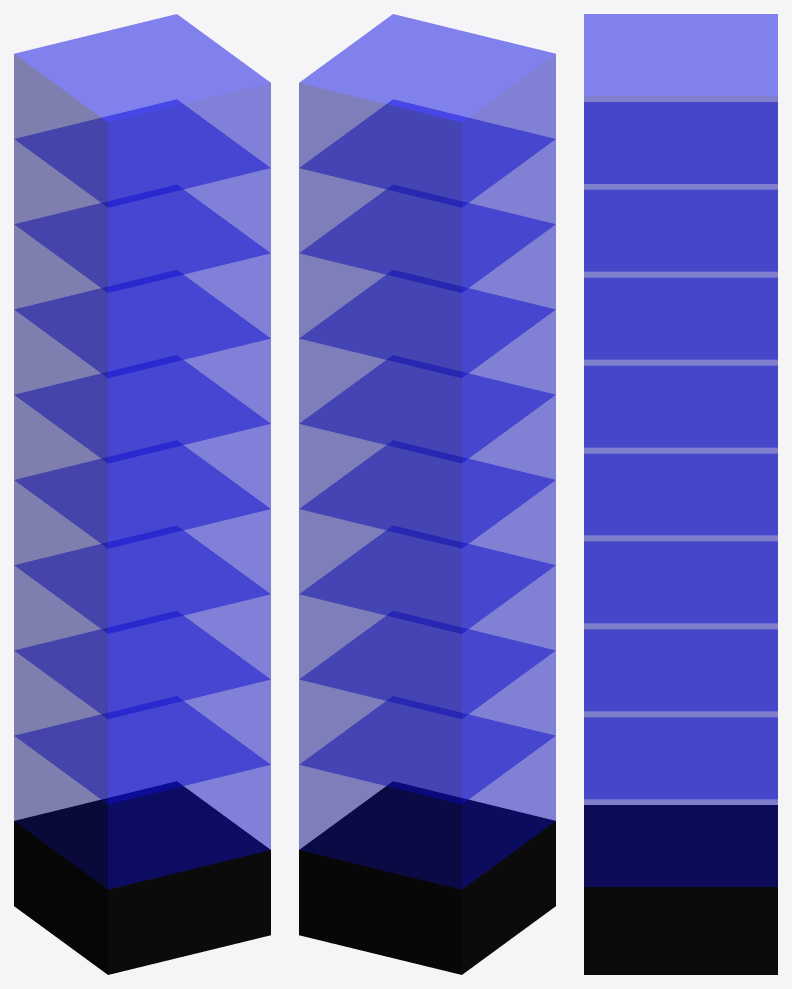
File: Elements_Spatial_CellComplex_TraverseCells.glb
The picture shows the model from 3 angles, left to right: view 1: azimuth 30°, elevation 25°; view 2: azimuth 150°, elevation 25°; view 3: azimuth 270°, elevation 25°; orthographic projection. The views are drawn at different scales.
Visible parts, largest first — view 1: b67d60e9-e09e-4923-a0f4-f72365dc1552_mesh, bc8b697d-8c0a-47db-a0ce-9b01d949c37b_mesh, e6ce35df-aee5-4938-82b2-ad88f5fe79bc_mesh, 4738ae23-38b1-47c1-b318-548763623b20_mesh, 4af2bf3d-1871-4e71-b617-1a072a71d563_mesh, 1293839e-dad5-4ac8-b9ae-1a486ff21528_mesh, 8fb3d295-b7f3-424b-909e-11fc838c3b7b_mesh, da85d28e-1a51-471e-bbd8-2bbe40ccbe36_mesh, eb8353db-9a13-40d1-b16e-095582839040_mesh, 872e2d1f-9238-4d1d-a204-598b4b27026e_mesh, 08346981-a5ee-493e-a104-87606683bdda_mesh, de755ee6-9f7b-4709-8e86-a5bfb1babb35_mesh; view 2: b67d60e9-e09e-4923-a0f4-f72365dc1552_mesh, bc8b697d-8c0a-47db-a0ce-9b01d949c37b_mesh, e6ce35df-aee5-4938-82b2-ad88f5fe79bc_mesh, 4738ae23-38b1-47c1-b318-548763623b20_mesh, 4af2bf3d-1871-4e71-b617-1a072a71d563_mesh, 1293839e-dad5-4ac8-b9ae-1a486ff21528_mesh, 8fb3d295-b7f3-424b-909e-11fc838c3b7b_mesh, da85d28e-1a51-471e-bbd8-2bbe40ccbe36_mesh, eb8353db-9a13-40d1-b16e-095582839040_mesh, 872e2d1f-9238-4d1d-a204-598b4b27026e_mesh, a880d705-d032-4190-809c-7a832876dabc_mesh, de755ee6-9f7b-4709-8e86-a5bfb1babb35_mesh; view 3: 8fb3d295-b7f3-424b-909e-11fc838c3b7b_mesh, da85d28e-1a51-471e-bbd8-2bbe40ccbe36_mesh, e6ce35df-aee5-4938-82b2-ad88f5fe79bc_mesh, 4af2bf3d-1871-4e71-b617-1a072a71d563_mesh, eb8353db-9a13-40d1-b16e-095582839040_mesh, 1293839e-dad5-4ac8-b9ae-1a486ff21528_mesh, 4738ae23-38b1-47c1-b318-548763623b20_mesh, bc8b697d-8c0a-47db-a0ce-9b01d949c37b_mesh, b67d60e9-e09e-4923-a0f4-f72365dc1552_mesh, 9b1b51f9-3ae8-4bb8-b8f0-bf32cf1d5564_mesh, 872e2d1f-9238-4d1d-a204-598b4b27026e_mesh.
Boxes of the visible parts, x1,y1,x2,y2 form: b67d60e9-e09e-4923-a0f4-f72365dc1552_mesh: (14,14,270,207); bc8b697d-8c0a-47db-a0ce-9b01d949c37b_mesh: (14,99,270,292); e6ce35df-aee5-4938-82b2-ad88f5fe79bc_mesh: (14,701,270,889); 4738ae23-38b1-47c1-b318-548763623b20_mesh: (14,189,270,377); 4af2bf3d-1871-4e71-b617-1a072a71d563_mesh: (14,445,270,633); 1293839e-dad5-4ac8-b9ae-1a486ff21528_mesh: (14,275,270,463); 8fb3d295-b7f3-424b-909e-11fc838c3b7b_mesh: (14,616,270,804); da85d28e-1a51-471e-bbd8-2bbe40ccbe36_mesh: (14,530,270,718); eb8353db-9a13-40d1-b16e-095582839040_mesh: (14,360,270,548); 872e2d1f-9238-4d1d-a204-598b4b27026e_mesh: (14,781,270,889); 08346981-a5ee-493e-a104-87606683bdda_mesh: (108,850,270,974); de755ee6-9f7b-4709-8e86-a5bfb1babb35_mesh: (14,821,107,974); b67d60e9-e09e-4923-a0f4-f72365dc1552_mesh: (299,14,555,207); bc8b697d-8c0a-47db-a0ce-9b01d949c37b_mesh: (299,99,555,292); e6ce35df-aee5-4938-82b2-ad88f5fe79bc_mesh: (299,701,555,889); 4738ae23-38b1-47c1-b318-548763623b20_mesh: (299,189,555,377); 4af2bf3d-1871-4e71-b617-1a072a71d563_mesh: (299,445,555,633); 1293839e-dad5-4ac8-b9ae-1a486ff21528_mesh: (299,275,555,463); 8fb3d295-b7f3-424b-909e-11fc838c3b7b_mesh: (299,616,555,804); da85d28e-1a51-471e-bbd8-2bbe40ccbe36_mesh: (299,530,555,718); eb8353db-9a13-40d1-b16e-095582839040_mesh: (299,360,555,548); 872e2d1f-9238-4d1d-a204-598b4b27026e_mesh: (299,781,555,889); a880d705-d032-4190-809c-7a832876dabc_mesh: (299,850,461,974); de755ee6-9f7b-4709-8e86-a5bfb1babb35_mesh: (462,821,555,974); 8fb3d295-b7f3-424b-909e-11fc838c3b7b_mesh: (584,629,777,799); da85d28e-1a51-471e-bbd8-2bbe40ccbe36_mesh: (584,541,777,711); e6ce35df-aee5-4938-82b2-ad88f5fe79bc_mesh: (584,717,777,886); 4af2bf3d-1871-4e71-b617-1a072a71d563_mesh: (584,454,777,623); eb8353db-9a13-40d1-b16e-095582839040_mesh: (584,366,777,535); 1293839e-dad5-4ac8-b9ae-1a486ff21528_mesh: (584,278,777,447); 4738ae23-38b1-47c1-b318-548763623b20_mesh: (584,190,777,359); bc8b697d-8c0a-47db-a0ce-9b01d949c37b_mesh: (584,102,777,271); b67d60e9-e09e-4923-a0f4-f72365dc1552_mesh: (584,14,777,183); 9b1b51f9-3ae8-4bb8-b8f0-bf32cf1d5564_mesh: (584,887,777,974); 872e2d1f-9238-4d1d-a204-598b4b27026e_mesh: (584,805,777,886).
Bounding box in the file's own units: 10 × 50 × 10.
